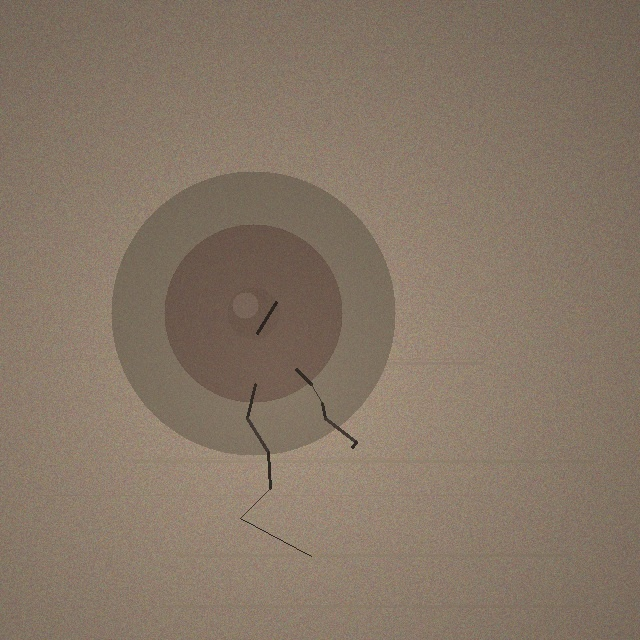crack: (111, 171, 395, 455)
